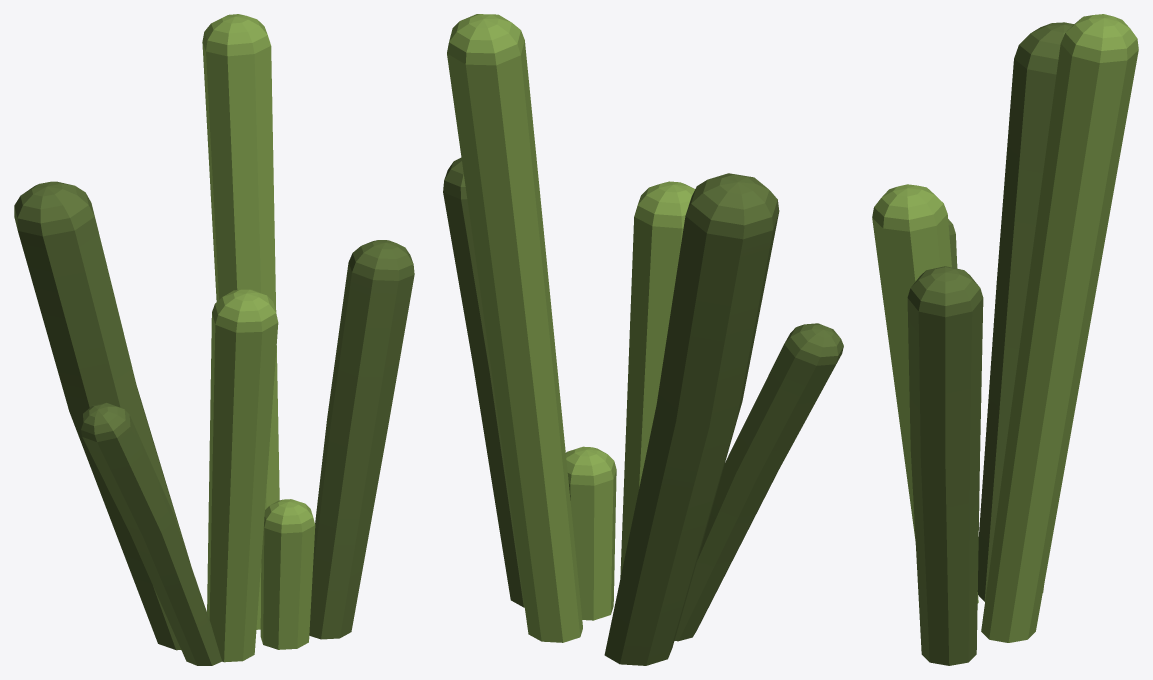
The model's file is cactus_4.fbx.
3 renders of one model, left to right at view 1: azimuth 30°, elevation 25°; view 2: azimuth 150°, elevation 25°; view 3: azimuth 270°, elevation 25°, orthographic. The views are drawn at different scales.
Parts seen in each view (by area): view 1: cactus_4; view 2: cactus_4; view 3: cactus_4.
Part boxes in pixels (x1=…): cactus_4: x1=14, y1=14, x2=414, y2=665; cactus_4: x1=443, y1=14, x2=843, y2=665; cactus_4: x1=872, y1=14, x2=1138, y2=665.
Size of the model in its own units: 90.18 by 143 by 55.53.
